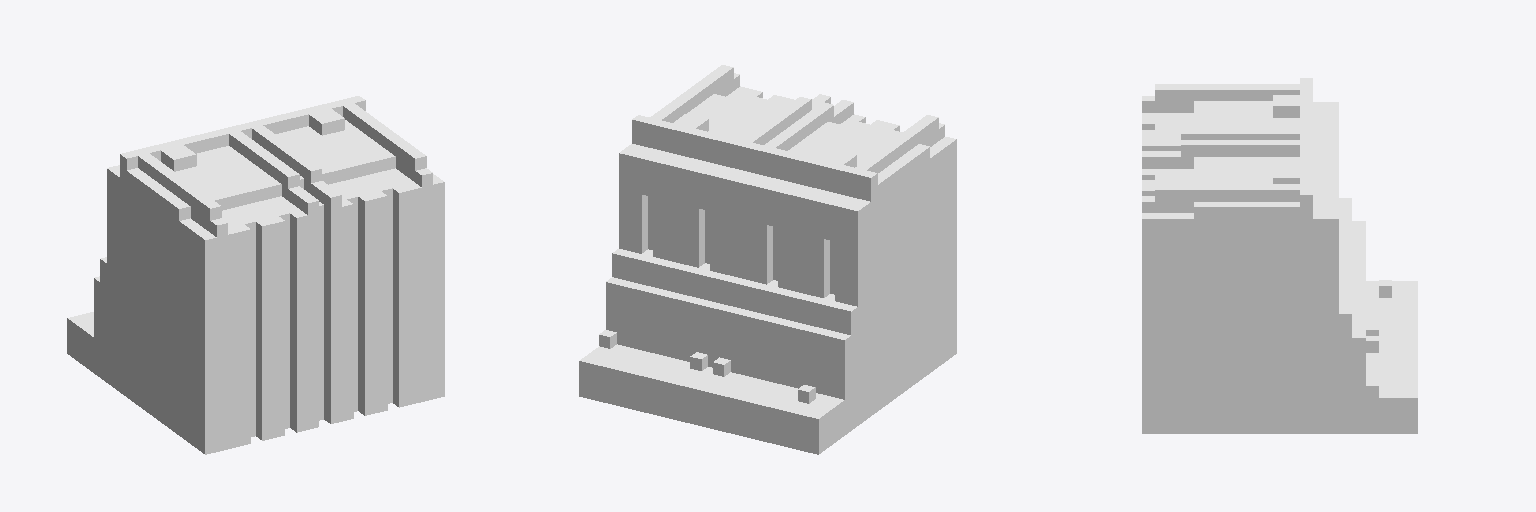
File: wall1.obj
3 renders of one model, left to right at view 1: azimuth 30°, elevation 25°; view 2: azimuth 150°, elevation 25°; view 3: azimuth 270°, elevation 25°, orthographic.
Size of the model in its own units: 21 by 20 by 21.